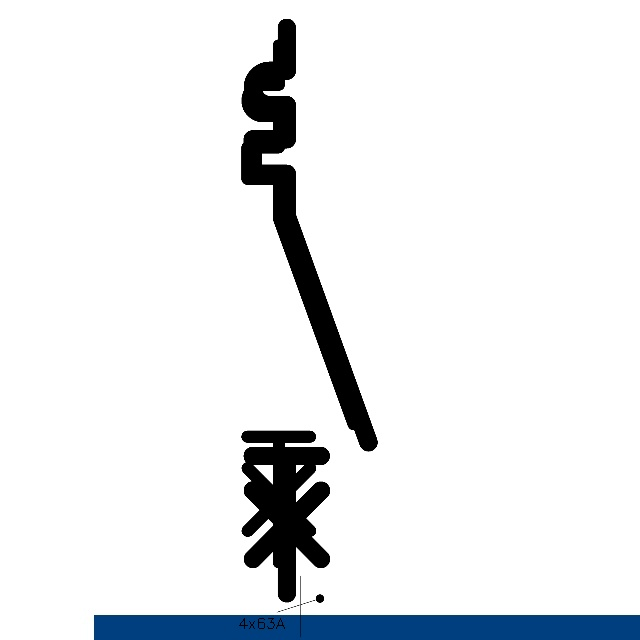interruptor_termomagnetico: (238, 13, 383, 607), (234, 32, 367, 576)
